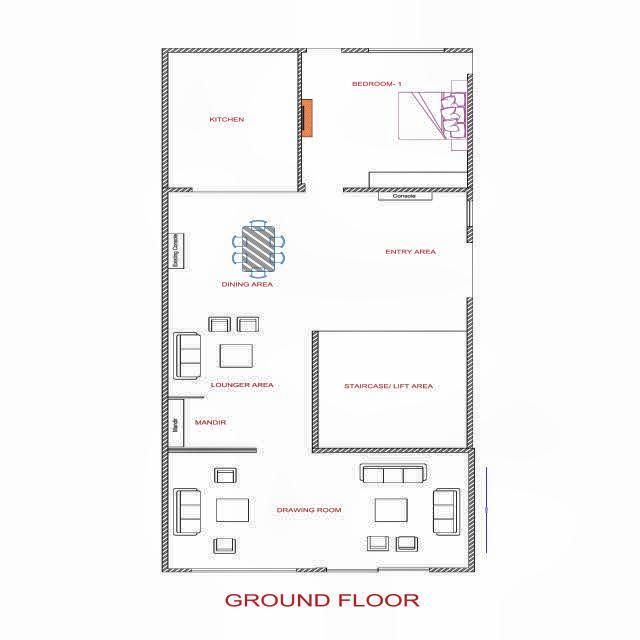room: (167, 191, 466, 331), (168, 451, 468, 568), (301, 51, 470, 187), (167, 52, 297, 191), (316, 332, 467, 448), (169, 334, 312, 448)
